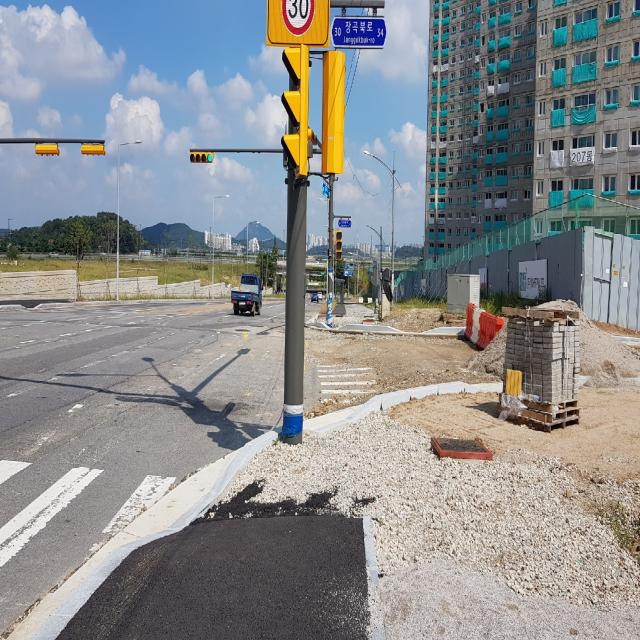횡단보도: (316, 363, 378, 403)
